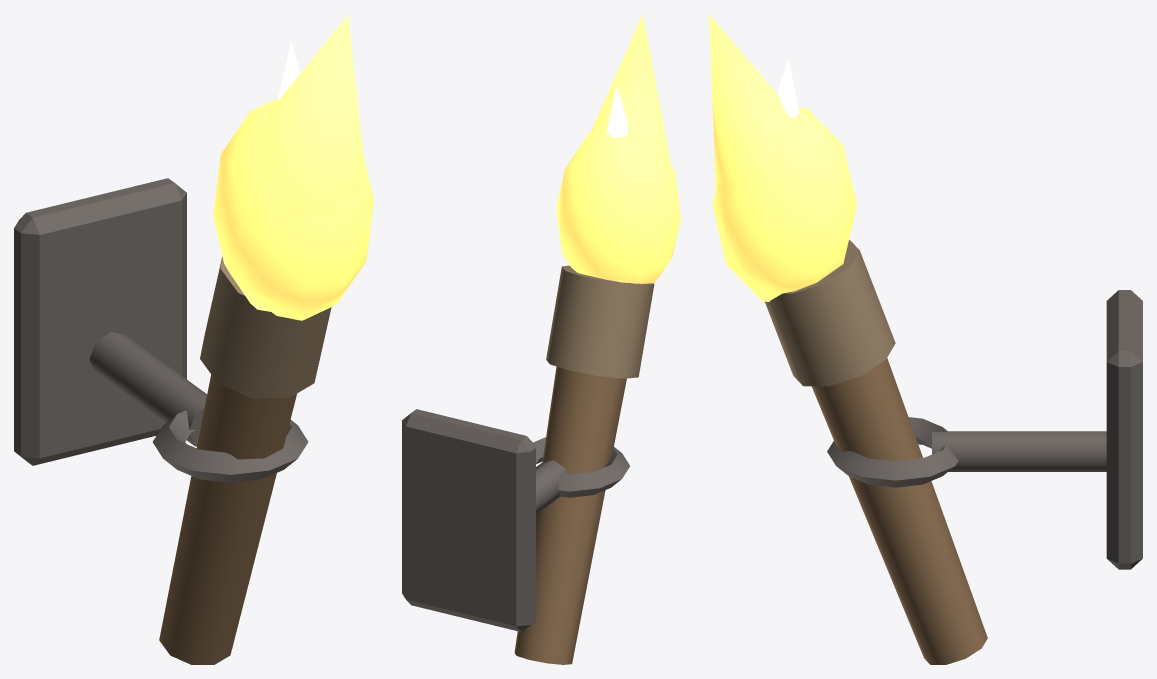
Rendered from torch.glb.
3 renders of one model, left to right at view 1: azimuth 30°, elevation 25°; view 2: azimuth 150°, elevation 25°; view 3: azimuth 270°, elevation 25°, orthographic. The views are drawn at different scales.
Visible parts, largest first — view 1: torch, flame; view 2: torch, flame; view 3: torch, flame.
Boxes of the visible parts, box(x1,y1,x2,y2) form: torch: box(14, 178, 331, 664); flame: box(213, 14, 373, 320); torch: box(402, 265, 654, 664); flame: box(556, 14, 680, 283); torch: box(765, 240, 1142, 664); flame: box(709, 14, 856, 301).
Bounding box in the file's own units: 0.14 × 0.5944 × 0.3598.
